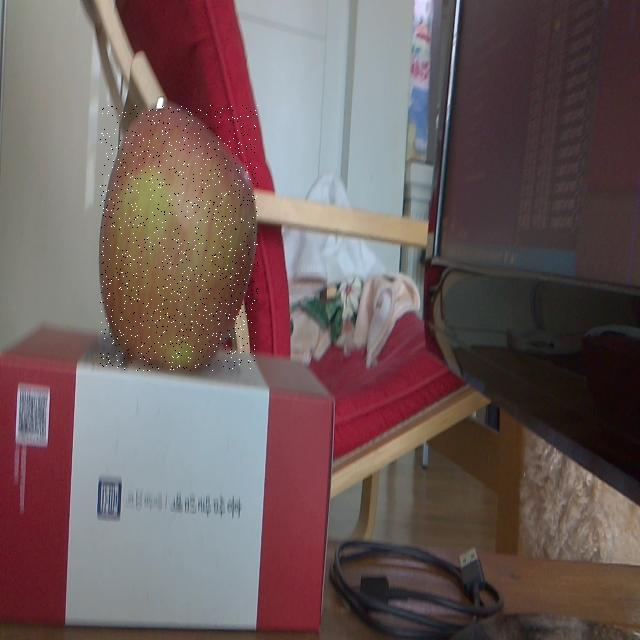apple: (100, 105, 258, 371)
